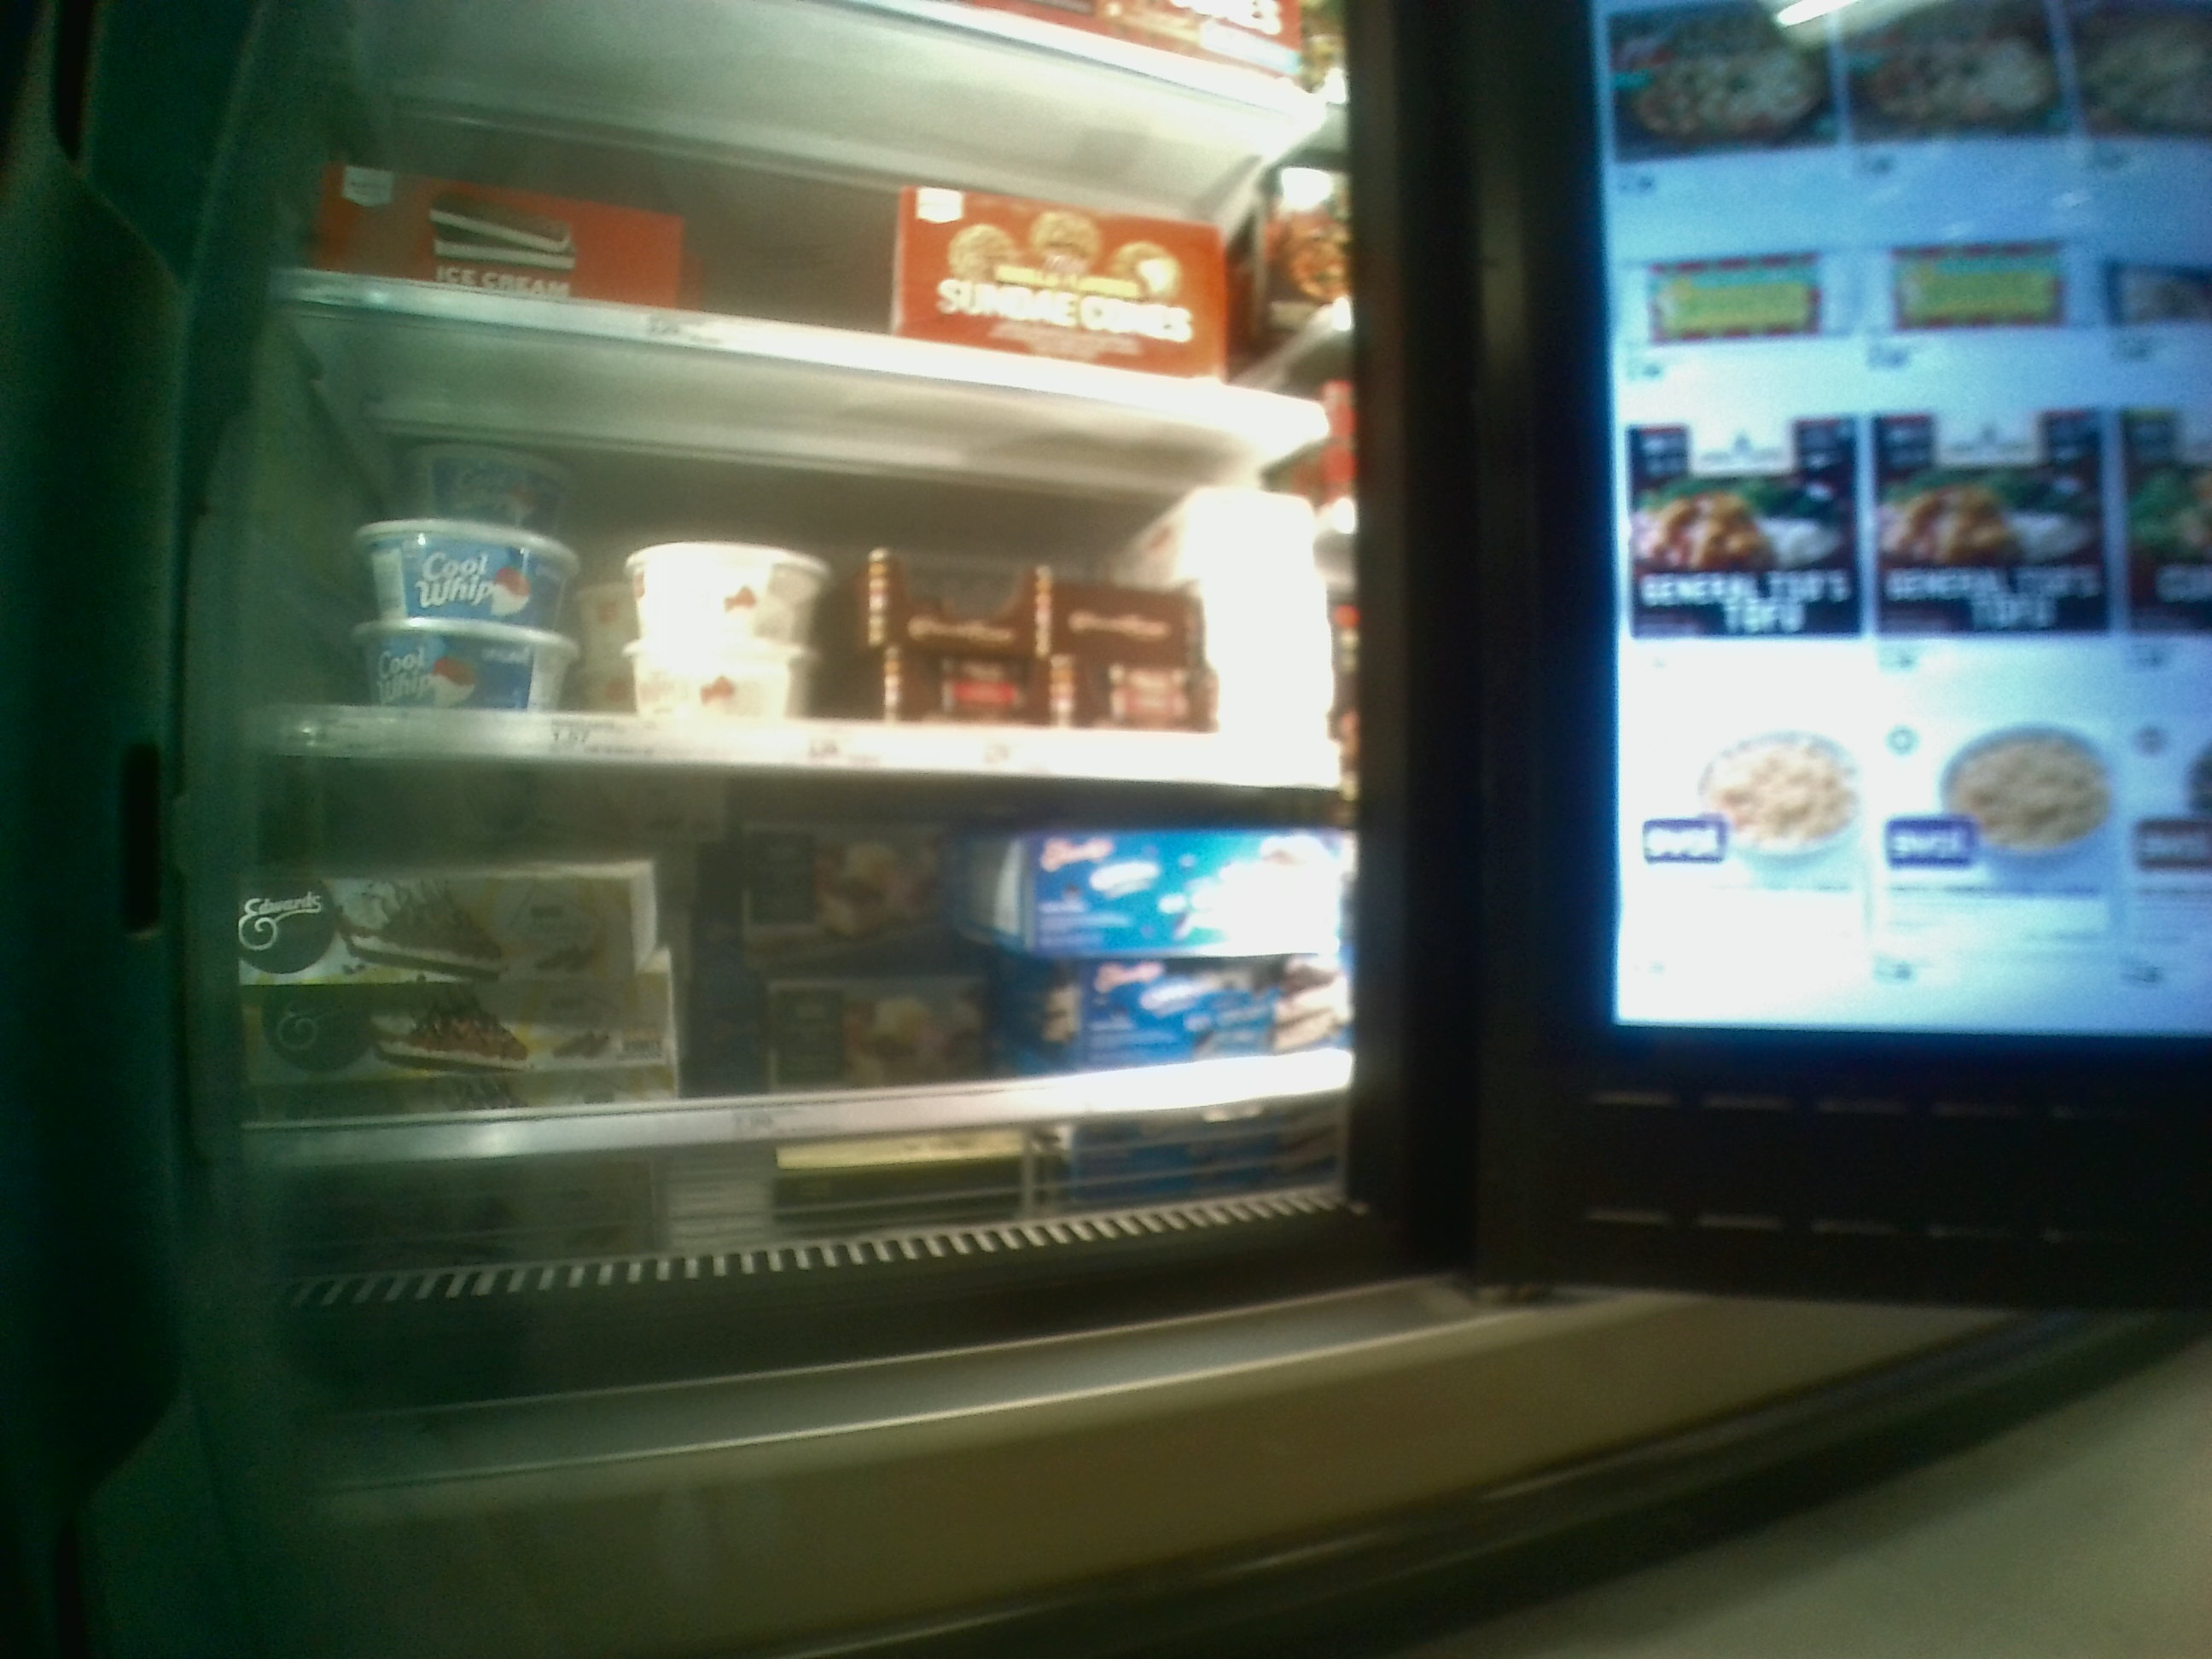shelf: (183, 779, 1393, 1241), (256, 300, 1332, 782)
